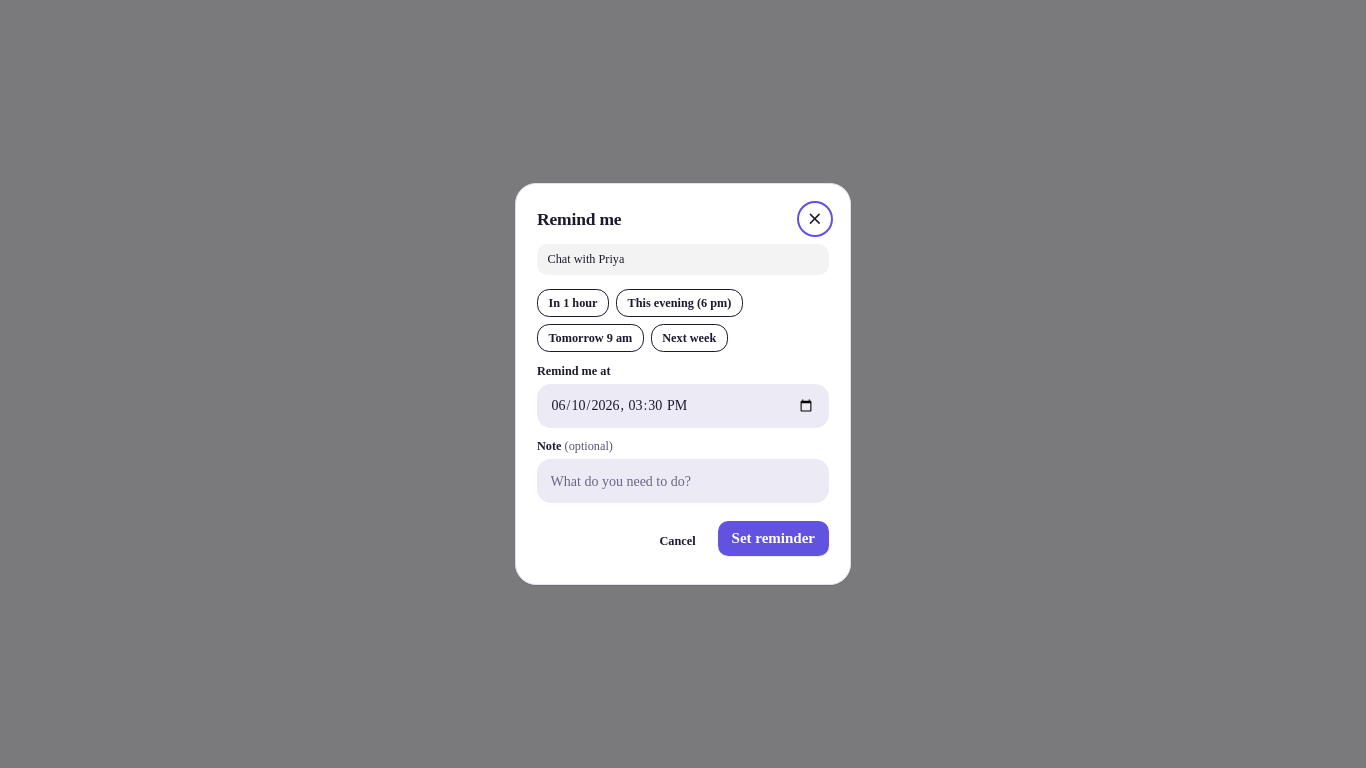
ReminderDialog › asks about the chat when there is no message, and shows a server error
Click the button "Set reminder": (773, 538) 718,521 -> 829,556
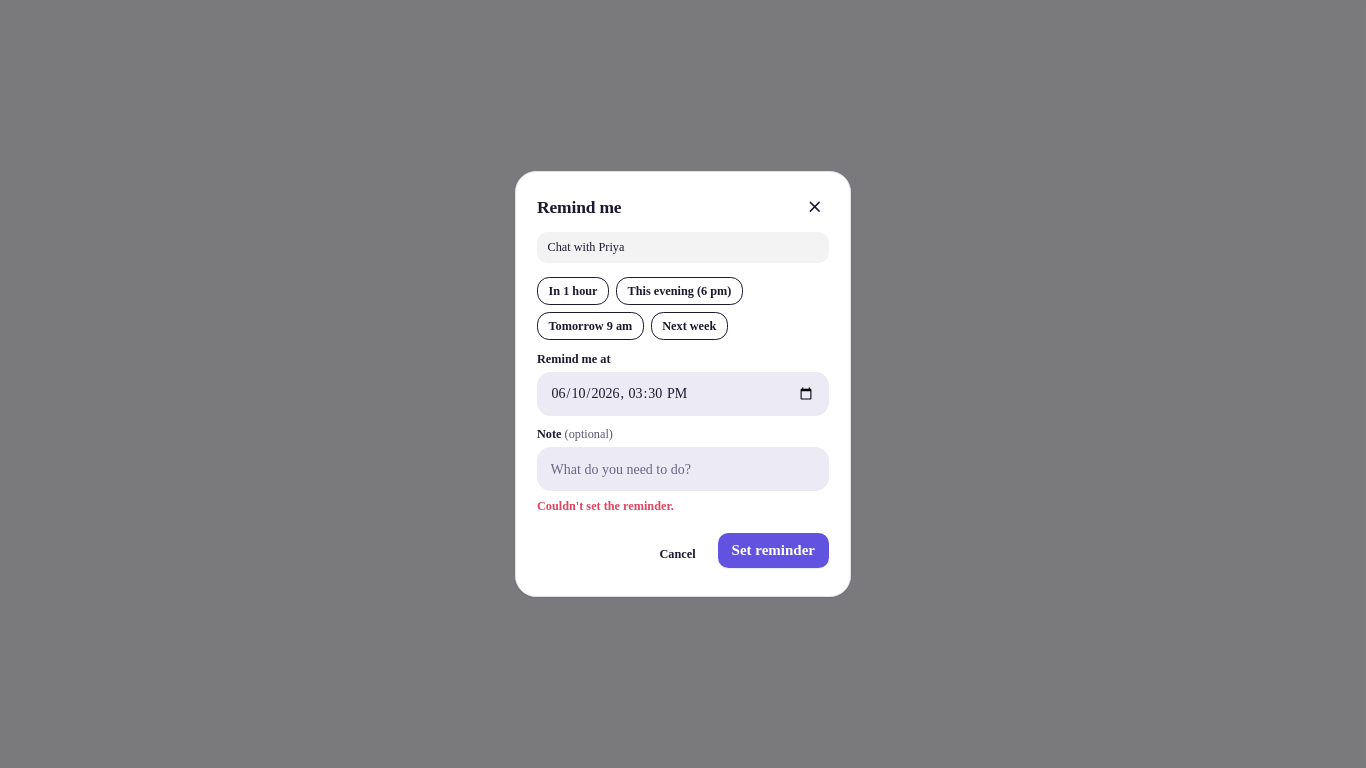
Check: the message "Couldn't set the reminder." is shown, box 537,499 -> 674,513
